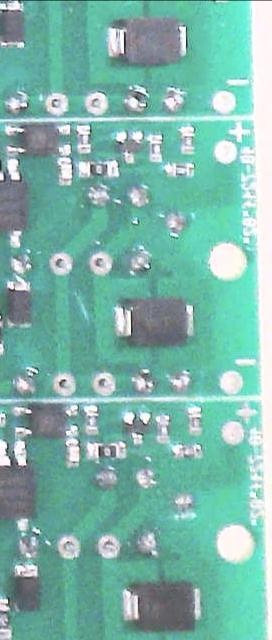chip-capacitor: (59, 158, 72, 184), (69, 443, 80, 465)
chip-resistor: (81, 160, 119, 176), (87, 443, 125, 457), (165, 162, 195, 176), (180, 126, 194, 154), (149, 133, 163, 161), (173, 444, 201, 457), (0, 605, 11, 637), (78, 126, 91, 153), (157, 415, 170, 442), (189, 407, 202, 433), (86, 406, 98, 434)
diode: (105, 17, 188, 67), (113, 296, 193, 347), (120, 582, 201, 630), (0, 1, 26, 48), (6, 281, 32, 327), (14, 564, 38, 612)
ic: (12, 404, 78, 438), (5, 124, 72, 156)
transistor: (124, 411, 151, 446), (115, 130, 143, 163)
